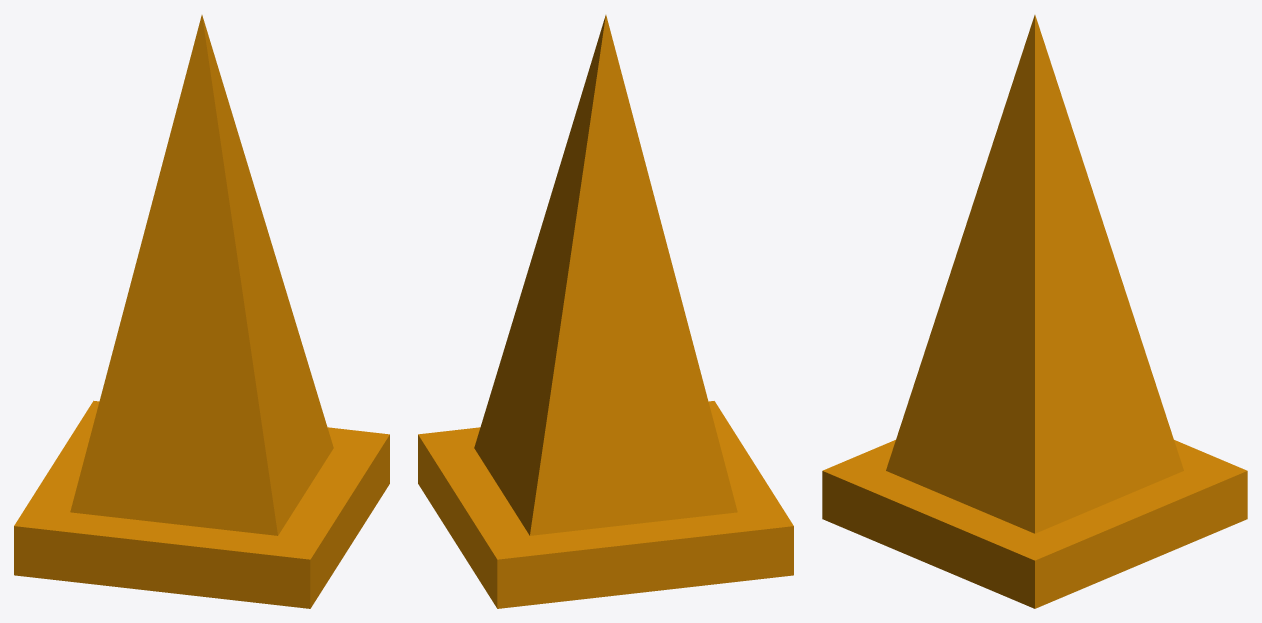
The model's file is Prop_Safety_Cone_B.fbx.
The picture shows the model from 3 angles, left to right: view 1: azimuth 30°, elevation 25°; view 2: azimuth 150°, elevation 25°; view 3: azimuth 270°, elevation 25°; orthographic projection. The views are drawn at different scales.
Visible parts, largest first — view 1: Prop_Safety_Cone_B; view 2: Prop_Safety_Cone_B; view 3: Prop_Safety_Cone_B.
Part boxes in pixels (<box>): Prop_Safety_Cone_B: <box>14,15,389,608</box>; Prop_Safety_Cone_B: <box>418,15,793,608</box>; Prop_Safety_Cone_B: <box>822,15,1247,608</box>.
Bounding box in the file's own units: 76.31 × 100 × 76.31.
